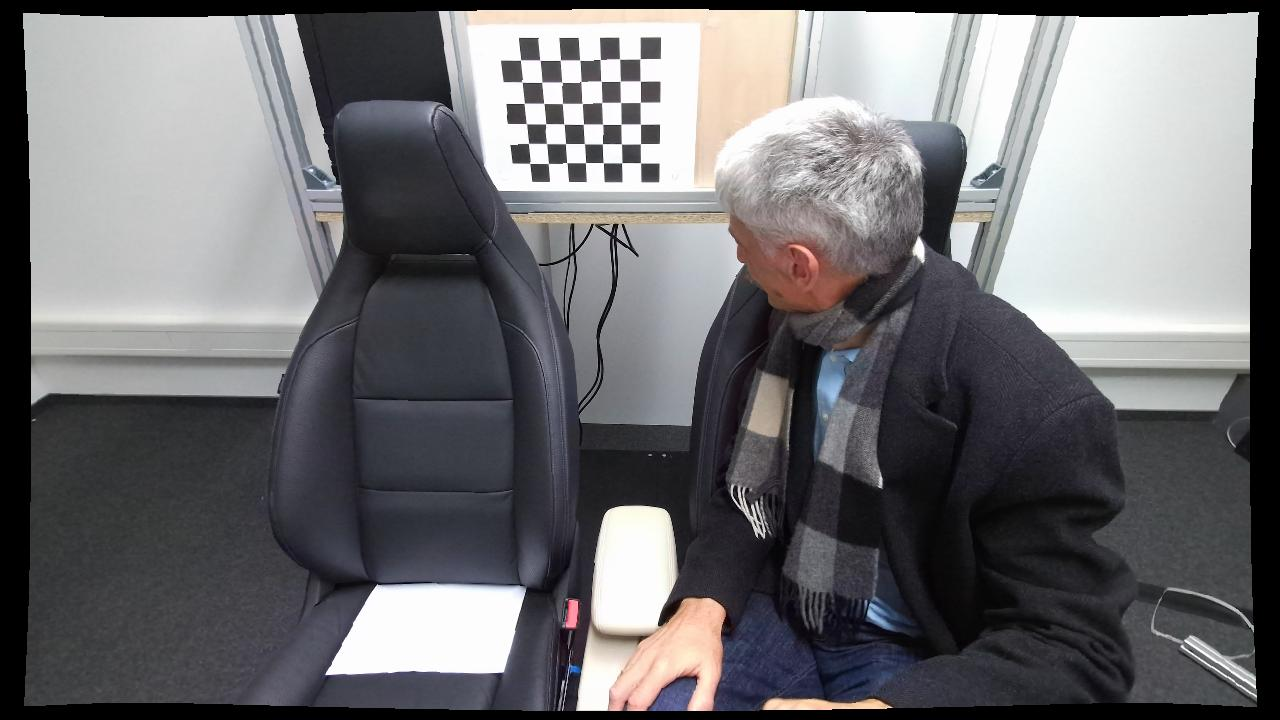Distracted: (607, 95, 1120, 708)
